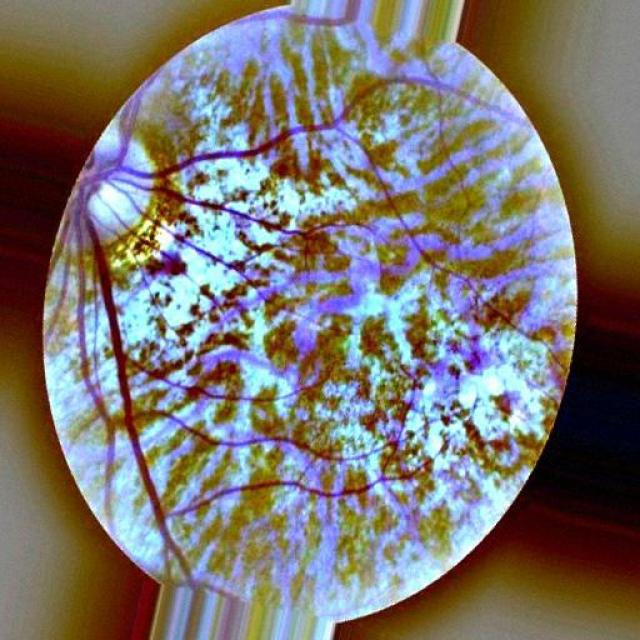Nerves: (49, 61, 425, 595), (140, 365, 256, 401), (375, 66, 476, 100), (380, 189, 420, 251)
Optic Disk: (58, 108, 152, 251)
